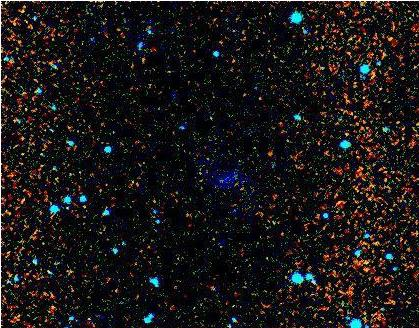star: (350, 249, 380, 279)
